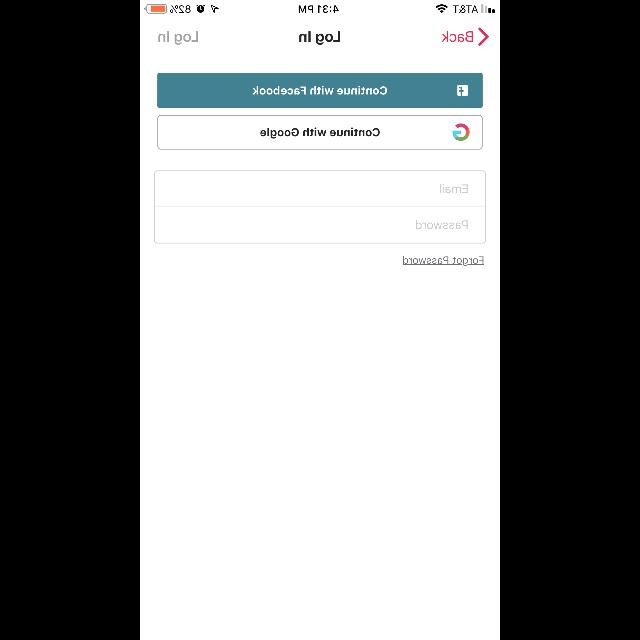icon: (478, 28, 488, 46)
input: (154, 206, 486, 244), (154, 171, 486, 207)
text: (402, 256, 483, 266), (416, 220, 468, 230), (300, 32, 340, 44), (158, 32, 198, 44), (442, 32, 472, 42), (439, 184, 467, 193)
textbutton: (158, 115, 482, 149), (158, 74, 482, 108)
uppertaskbar: (140, 0, 500, 14)
